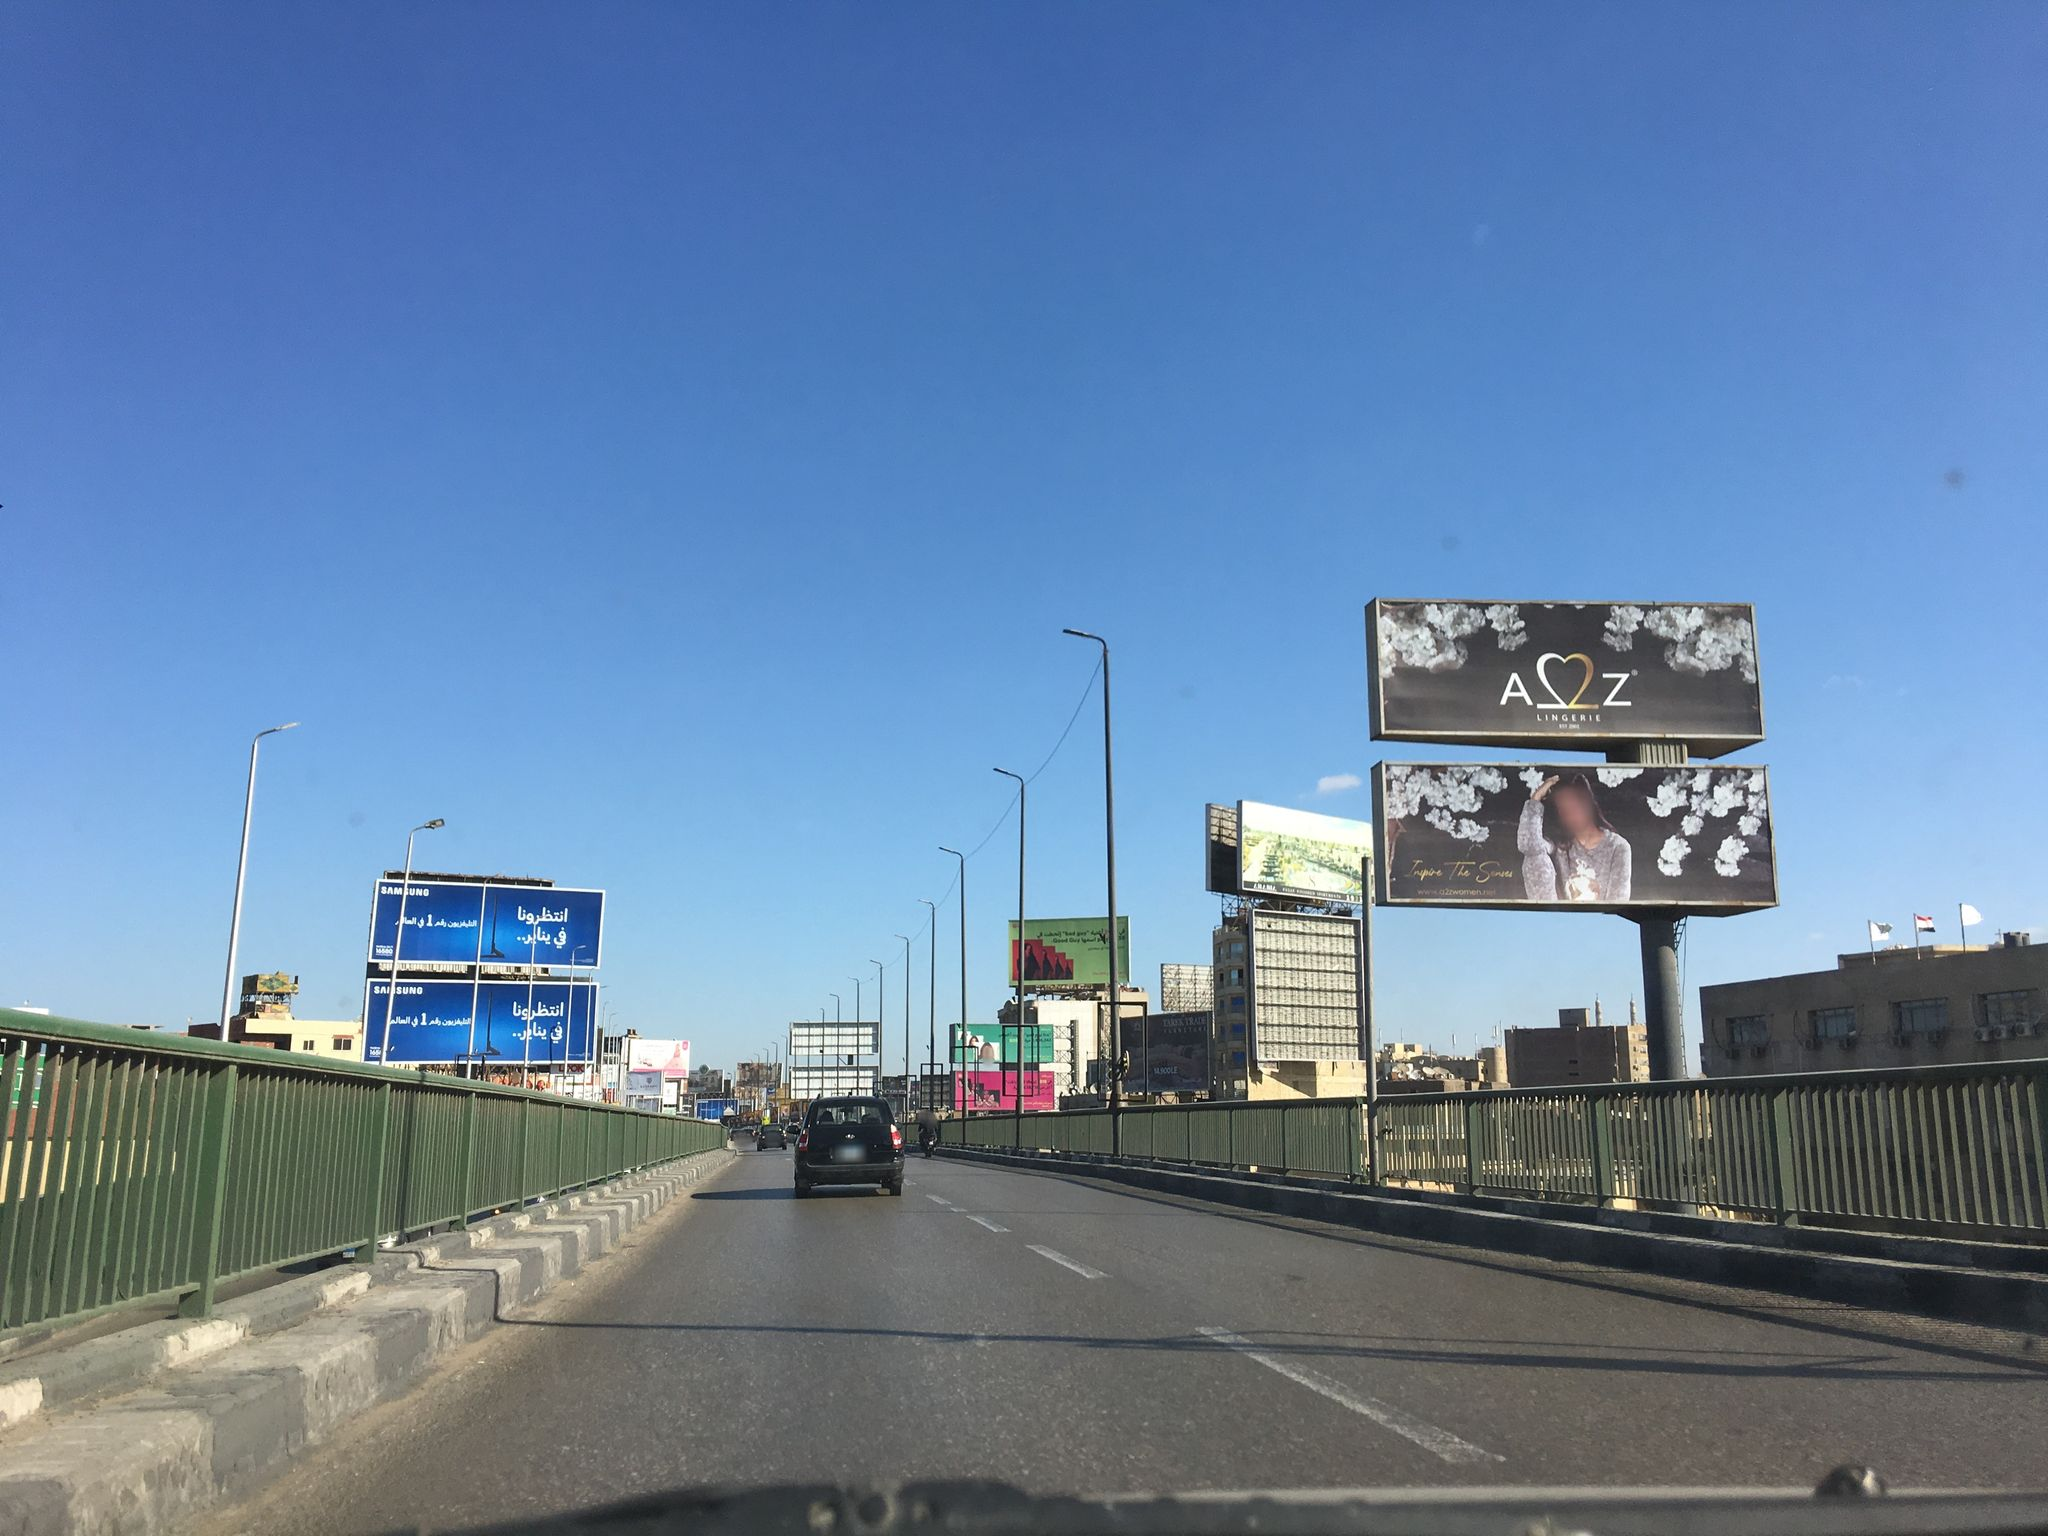car: (787, 1091, 906, 1197), (756, 1123, 787, 1150)
motorcycle: (918, 1129, 940, 1157)
